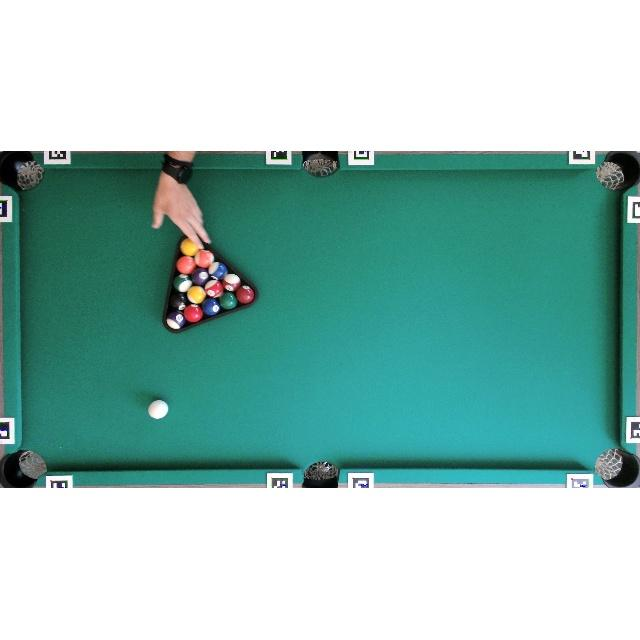cue ball: (147, 399, 169, 420)
other: (169, 292, 188, 312), (166, 310, 186, 329), (222, 273, 242, 292), (191, 267, 210, 286), (202, 297, 221, 316), (219, 291, 238, 310), (184, 304, 203, 323), (195, 249, 214, 268), (180, 238, 200, 256), (176, 256, 196, 274), (187, 286, 206, 304), (209, 262, 228, 280), (204, 280, 223, 298), (235, 285, 254, 303), (174, 274, 192, 292)
